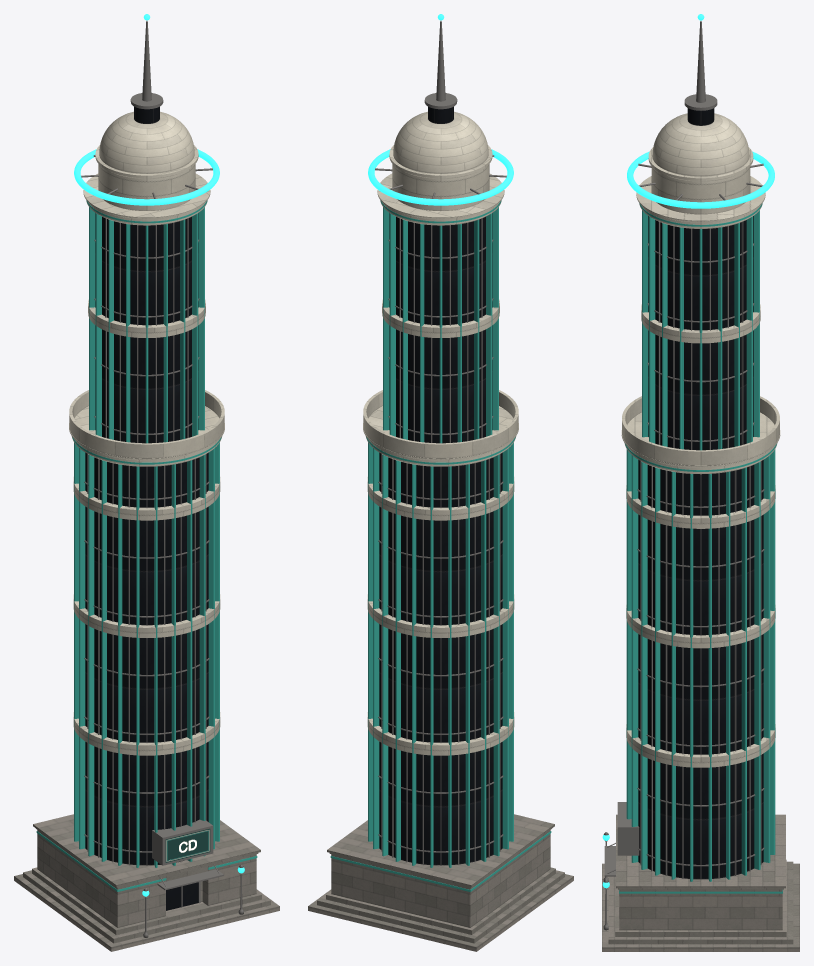
The model's file is climate-dao.glb.
3 views of the same model, side by side, from view 1: azimuth 30°, elevation 25°; view 2: azimuth 150°, elevation 25°; view 3: azimuth 270°, elevation 25° (orthographic).
Visible parts, largest first — view 1: Landmark · Climate DAO; view 2: Landmark · Climate DAO; view 3: Landmark · Climate DAO.
Boxes of the visible parts, x1=… form: Landmark · Climate DAO: x1=14, y1=14, x2=279, y2=951; Landmark · Climate DAO: x1=308, y1=14, x2=573, y2=951; Landmark · Climate DAO: x1=602, y1=14, x2=799, y2=951.
Size of the model in its own units: 12 by 60 by 12.
Materials: 7 (4 with a texture image).
